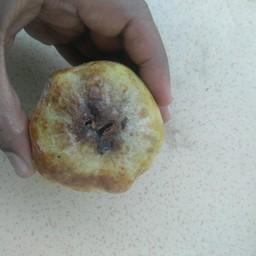Bad_guava: (25, 61, 163, 195)
